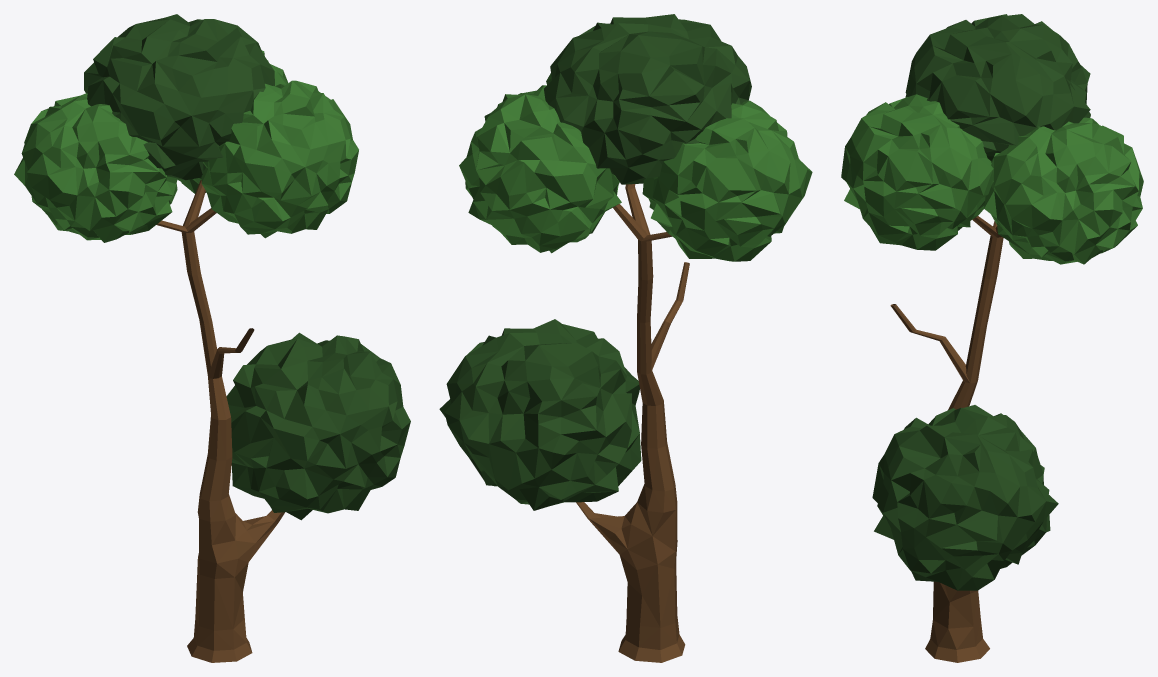
The model's file is folliage7.glb.
3 views of the same model, side by side, from view 1: azimuth 30°, elevation 25°; view 2: azimuth 150°, elevation 25°; view 3: azimuth 270°, elevation 25° (orthographic). The views are drawn at different scales.
Parts seen in each view (by area): view 1: LowPoly Tree 07.019; view 2: LowPoly Tree 07.019; view 3: LowPoly Tree 07.019.
Boxes of the visible parts, x1,y1,x2,y2 form: LowPoly Tree 07.019: (14, 14, 410, 662); LowPoly Tree 07.019: (439, 14, 812, 662); LowPoly Tree 07.019: (841, 14, 1143, 662).
Size of the model in its own units: 1.42 by 2.36 by 1.06.
